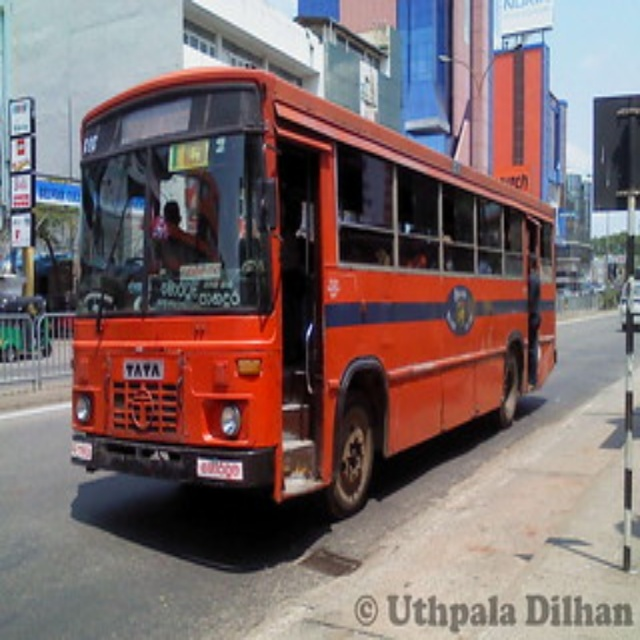Bus: (70, 61, 558, 521)
Motorcycle: (2, 294, 52, 360)
